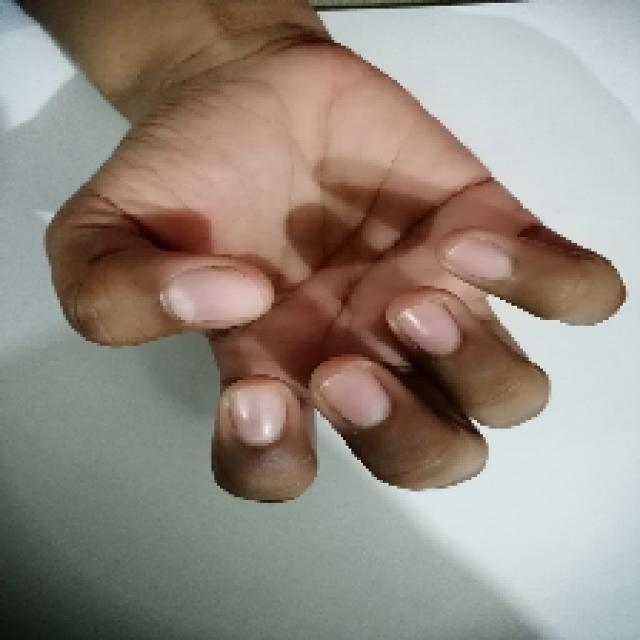Nail: (161, 272, 274, 329), (318, 368, 391, 428), (230, 382, 286, 446), (396, 302, 461, 355), (448, 239, 512, 279)
